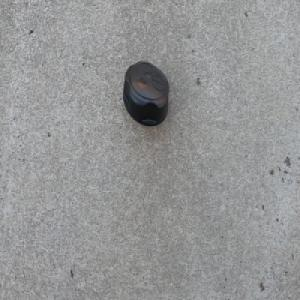FuelCap: (123, 60, 171, 130)
